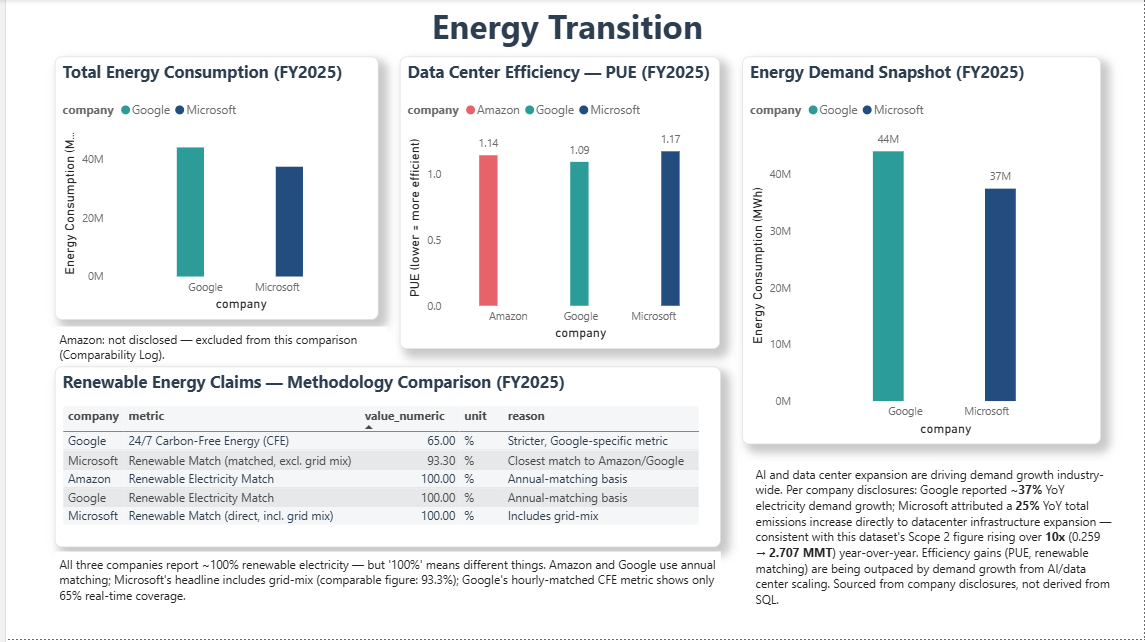

The dashboard page shown, as its layout file describes it:
{"tool":"powerbi","page":{"name":"Energy Transition","canvas":[1280,720],"ordinal":2},"visuals":[{"type":"textbox","box":[473.6,0,328.9,64.6],"z":0},{"type":"clusteredColumnChart","title":"Total Energy Consumption (FY2025)","fields":{"Category":["esg_data_export.company"],"Series":["esg_data_export.company"],"Y":["Sum(esg_data_export.value_numeric)"]},"box":[54.3,64.3,364.3,295.7],"z":1000},{"type":"textbox","box":[54.3,368.6,374.3,47.1],"z":2000},{"type":"tableEx","title":"Renewable Energy Claims — Methodology Comparison (FY2025)","fields":{"Values":["esg_data_export.company","esg_data_export.metric","Sum(esg_data_export.value_numeric)","esg_data_export.unit","esg_data_export.reason"]},"box":[54.3,412.9,748.6,202.9],"z":3000},{"type":"textbox","box":[54.3,621.4,748.6,72.9],"z":4000},{"type":"clusteredColumnChart","title":"Data Center Efficiency — PUE (FY2025)","fields":{"Category":["esg_data_export.company"],"Series":["esg_data_export.company"],"Y":["Sum(esg_data_export.value_numeric)"]},"box":[442.9,64.3,360,328.6],"z":5000},{"type":"clusteredColumnChart","title":"Energy Demand Snapshot (FY2025)","fields":{"Category":["esg_data_export.company"],"Series":["esg_data_export.company"],"Y":["Sum(esg_data_export.value_numeric)"]},"box":[827.1,64.3,402.9,435.7],"z":6000},{"type":"textbox","box":[837.1,520,411.4,200],"z":7000}]}

Visuals, with their boxes in screenshot pixels (x1, y1, x2, y2), scaled from the page's 1280x720 canvas onto the 1145x642 screenshot:
textbox: select_region(424, 0, 718, 58)
"Total Energy Consumption (FY2025)" clusteredColumnChart: select_region(49, 57, 374, 321)
textbox: select_region(49, 329, 383, 371)
"Renewable Energy Claims — Methodology Comparison (FY2025)" tableEx: select_region(49, 368, 718, 549)
textbox: select_region(49, 554, 718, 619)
"Data Center Efficiency — PUE (FY2025)" clusteredColumnChart: select_region(396, 57, 718, 350)
"Energy Demand Snapshot (FY2025)" clusteredColumnChart: select_region(740, 57, 1100, 446)
textbox: select_region(749, 464, 1117, 641)
